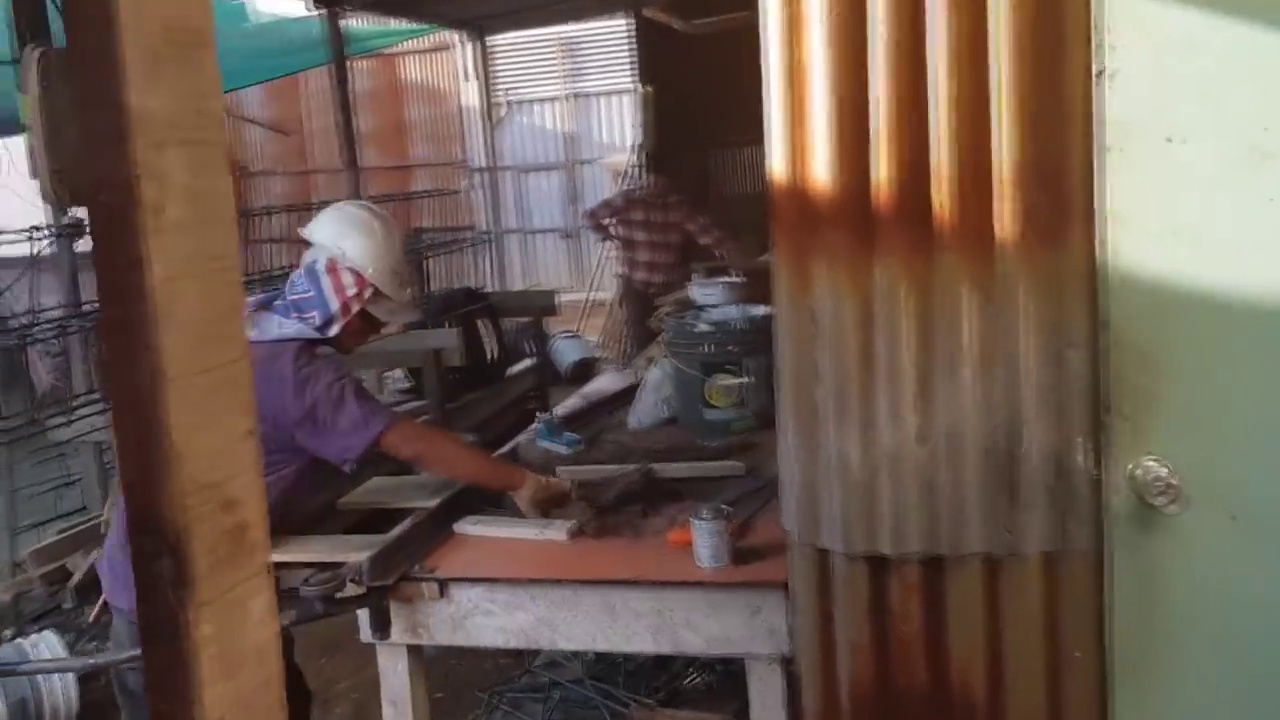helmet: (292, 203, 400, 299)
helmet-off: (636, 147, 681, 201)
helmet-on: (287, 196, 404, 353)
person: (244, 215, 570, 595), (592, 145, 717, 369)
